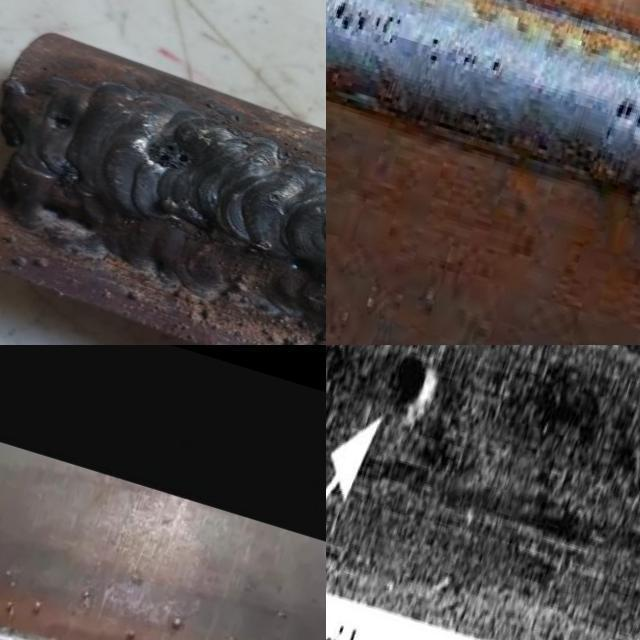defect: (378, 345, 444, 413), (598, 82, 640, 150), (138, 138, 197, 172), (370, 2, 405, 55), (331, 0, 371, 40), (46, 108, 80, 134), (57, 160, 85, 189), (488, 48, 509, 78), (428, 33, 444, 68), (458, 50, 481, 74), (263, 190, 282, 207)
